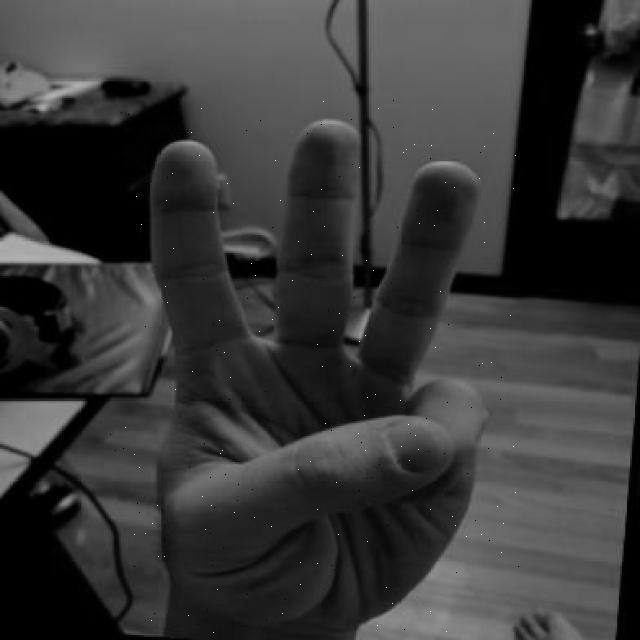W: (105, 100, 523, 638)
